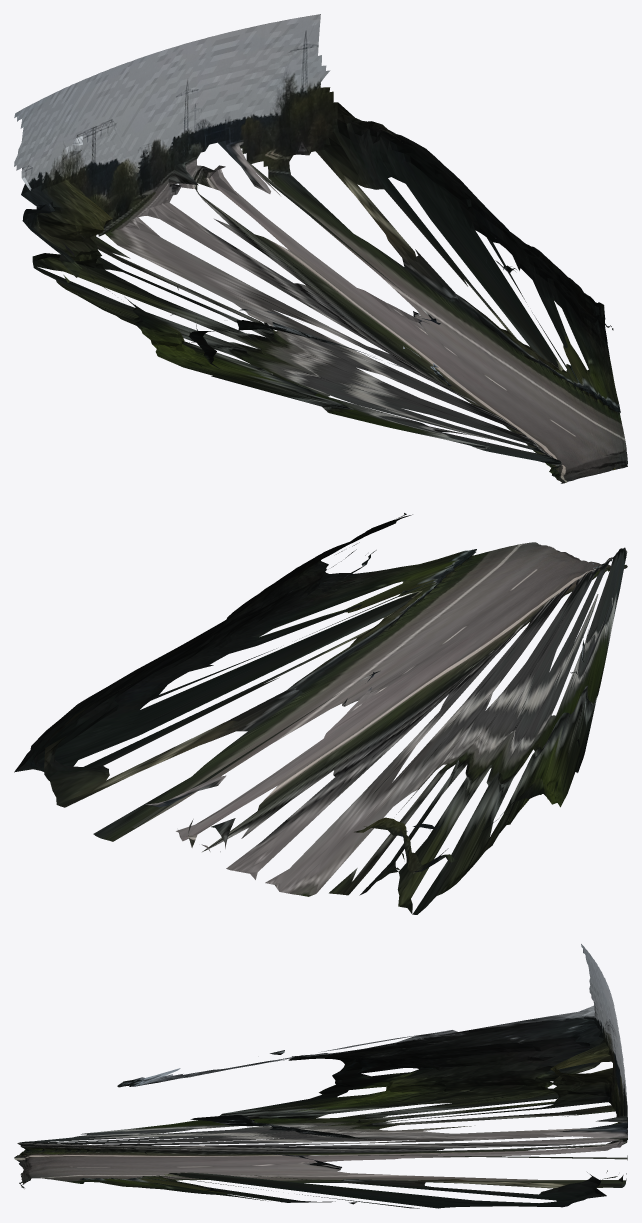
The picture shows the model from 3 angles, top to bottom: view 1: azimuth 30°, elevation 25°; view 2: azimuth 150°, elevation 25°; view 3: azimuth 270°, elevation 25°; orthographic projection. The views are drawn at different scales.
Visible parts, largest first — view 1: defaultobject; view 2: defaultobject; view 3: defaultobject.
Boxes of the visible parts, x1,y1,x2,y2 form: defaultobject: (14,14,627,483); defaultobject: (14,513,627,914); defaultobject: (14,944,627,1208).
Size of the model in its own units: 26.5 by 11.69 by 44.72.
Materials: 1 (1 with a texture image).
